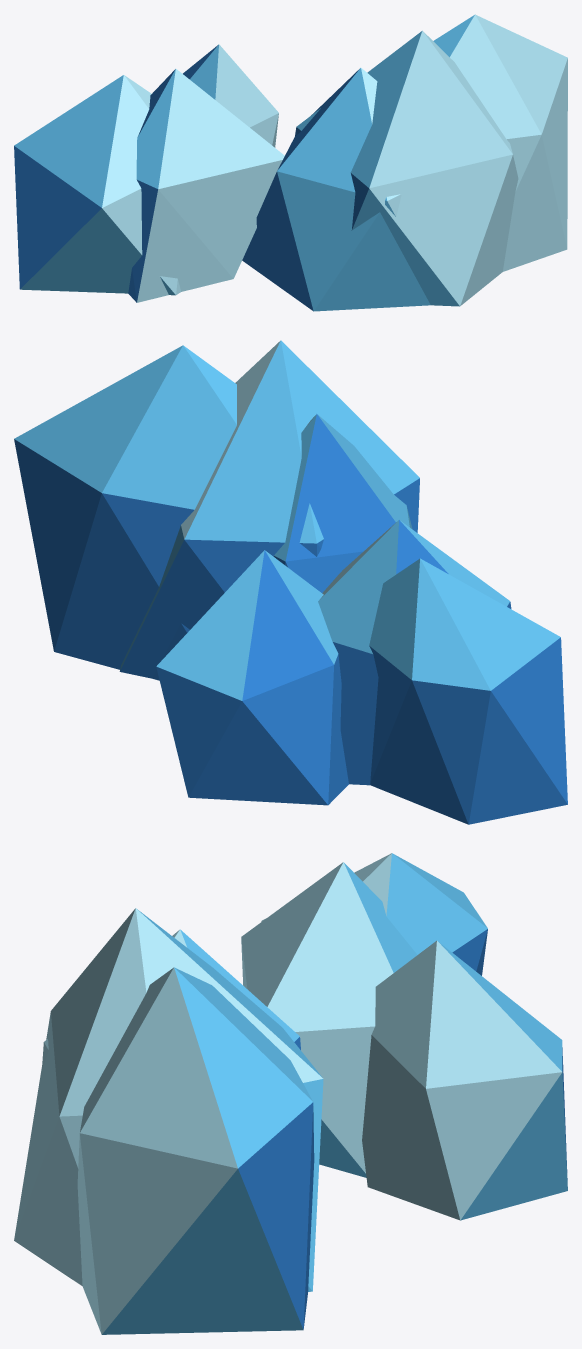
The model's file is IceShards.fbx.
The picture shows the model from 3 angles, top to bottom: view 1: azimuth 30°, elevation 25°; view 2: azimuth 150°, elevation 25°; view 3: azimuth 270°, elevation 25°; orthographic projection. The views are drawn at different scales.
Visible parts, largest first — view 1: IceShards; view 2: IceShards; view 3: IceShards.
Boxes of the visible parts, box(x1,y1,x2,y2) form: IceShards: box(14, 14, 567, 311); IceShards: box(14, 340, 567, 824); IceShards: box(14, 853, 567, 1334).
Size of the model in its own units: 0.9778 by 0.4516 by 0.673.
1 material, 1 textured.
